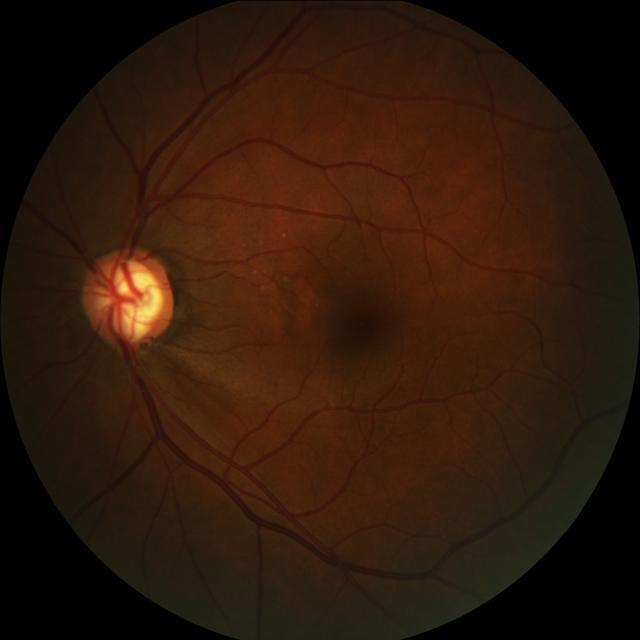OC: (97, 256, 163, 340)
OD: (82, 245, 172, 350)
